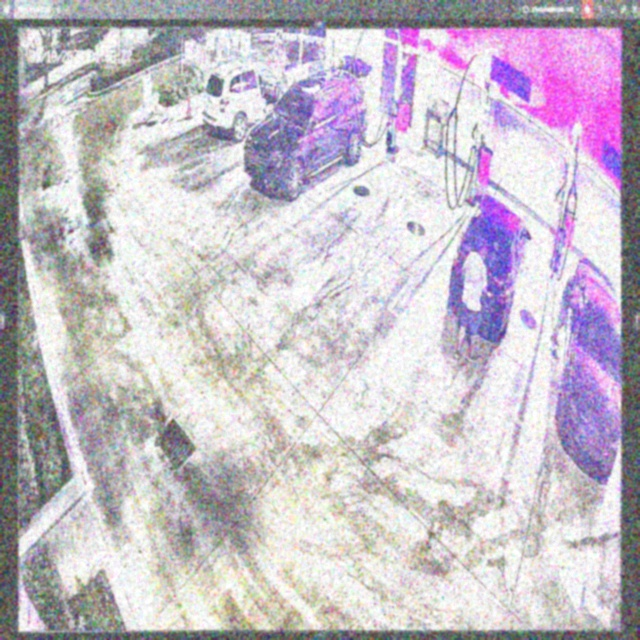Car: (243, 65, 369, 195), (450, 190, 531, 342)
